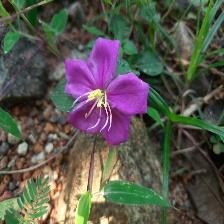malabar melastome: (64, 36, 152, 148)
